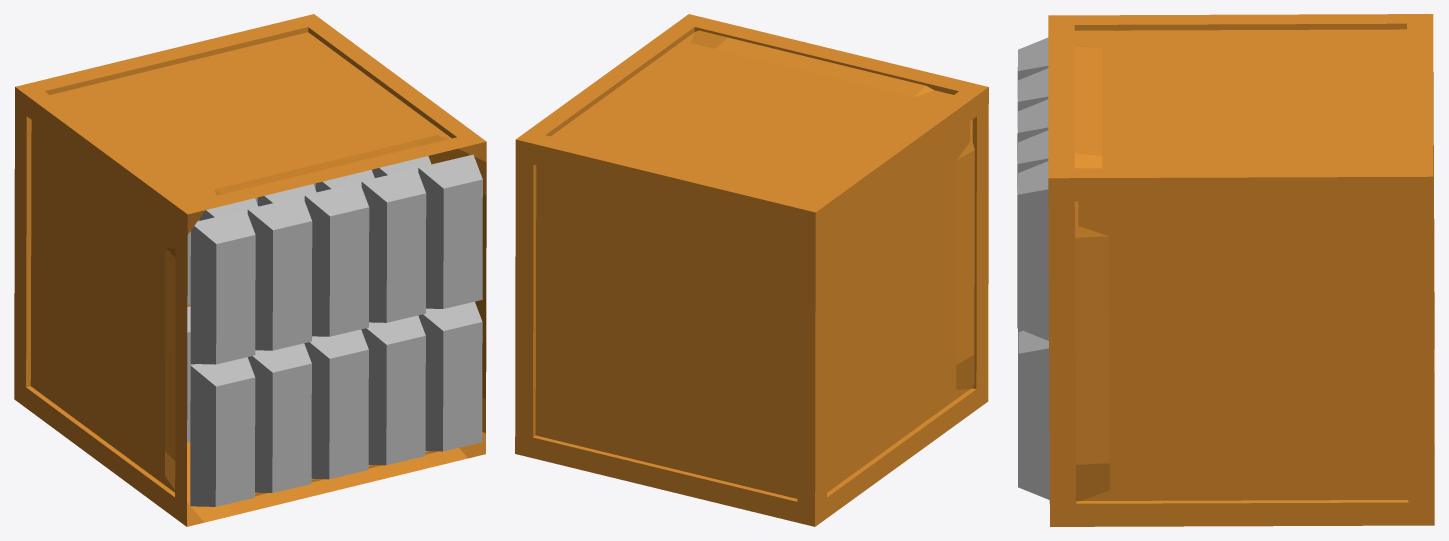
The model's file is eisen_barren.gltf.
3 renders of one model, left to right at view 1: azimuth 30°, elevation 25°; view 2: azimuth 150°, elevation 25°; view 3: azimuth 270°, elevation 25°, orthographic. The views are drawn at different scales.
Visible parts, largest first — view 1: Crate, Cube.025, Cube.024, Cube.002, Cube.001, Cube.003, Cube, Cube.006, Cube.005, Cube.007, Cube.004, Cube.013 (+4 smaller); view 2: Crate; view 3: Crate, Cube, Cube.007, Cube.002, Cube.003, Cube.001, Cube.025.
Part boxes in pixels (<box>): Crate: <box>14,14,486,526</box>; Cube.025: <box>190,210,255,364</box>; Cube.024: <box>190,357,255,506</box>; Cube.002: <box>304,182,369,336</box>; Cube.001: <box>361,168,426,322</box>; Cube.003: <box>247,196,312,350</box>; Cube: <box>418,154,482,308</box>; Cube.006: <box>361,315,425,465</box>; Cube.005: <box>304,329,368,479</box>; Cube.007: <box>418,301,482,451</box>; Cube.004: <box>247,343,311,492</box>; Cube.013: <box>257,184,316,206</box>; Crate: <box>515,14,988,526</box>; Crate: <box>1048,14,1434,526</box>; Cube: <box>1017,161,1048,340</box>; Cube.007: <box>1018,330,1049,499</box>; Cube.002: <box>1017,99,1048,225</box>; Cube.003: <box>1017,68,1048,194</box>; Cube.001: <box>1017,130,1048,256</box>; Cube.025: <box>1017,37,1048,163</box>.
Bounding box in the file's own units: 0.3001 × 0.3014 × 0.3255.
